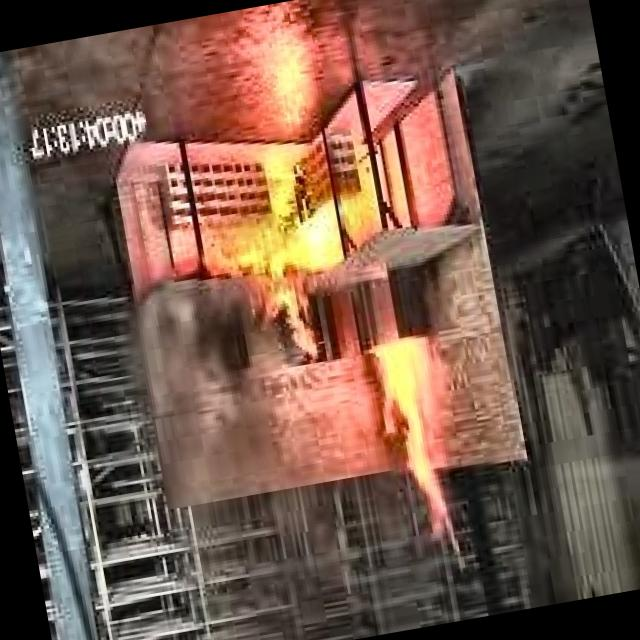fire: (322, 289, 484, 560), (203, 137, 382, 359)
